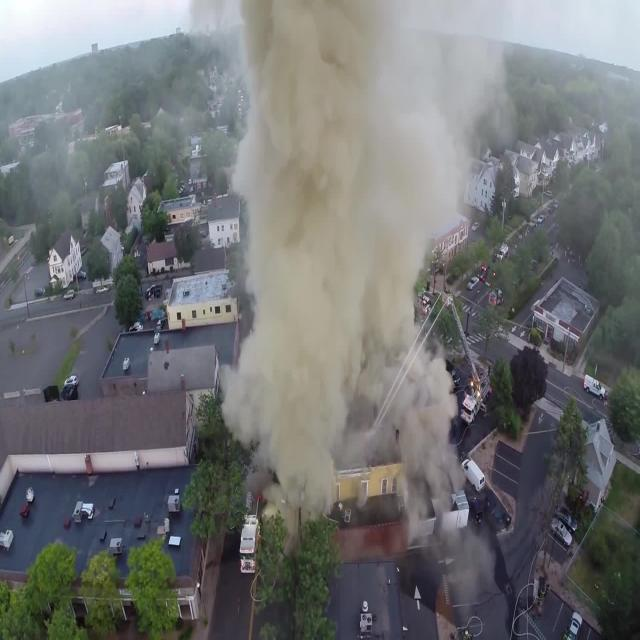smoke: (253, 6, 441, 457)
